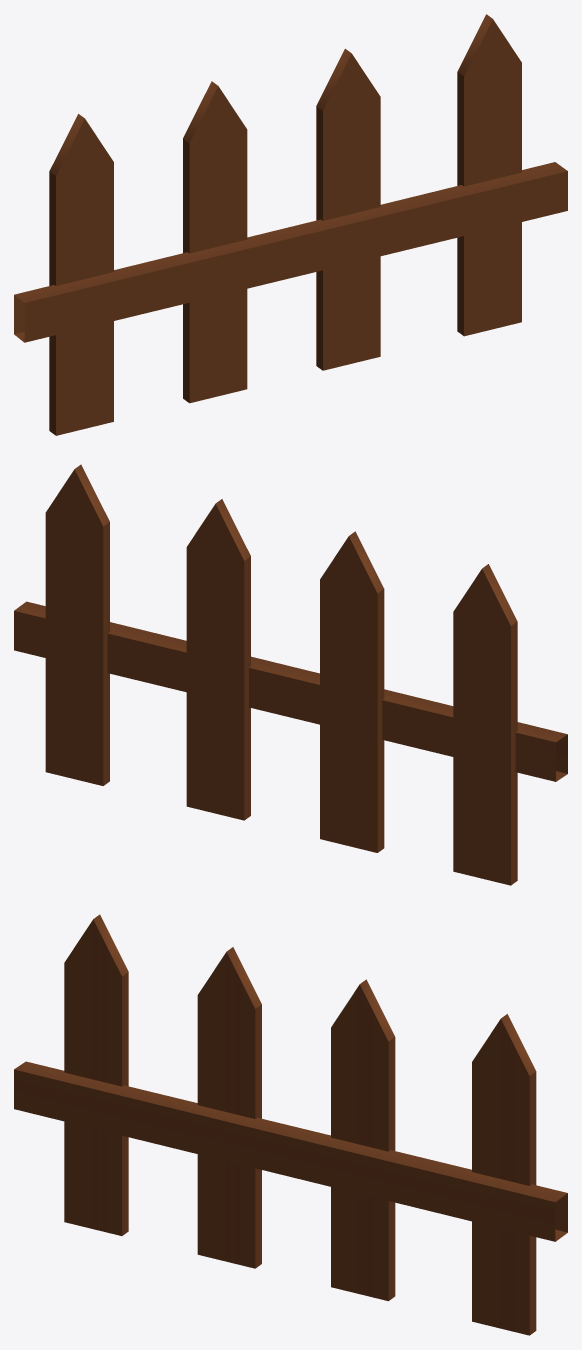
File: MSH_VallasMadera.fbx
3 renders of one model, top to bottom at view 1: azimuth 30°, elevation 25°; view 2: azimuth 150°, elevation 25°; view 3: azimuth 330°, elevation 25°, orthographic.
Visible parts, largest first — view 1: Box084; view 2: Box084; view 3: Box084.
Boxes of the visible parts, x1,y1,x2,y2 form: Box084: [14, 14, 567, 435]; Box084: [14, 464, 567, 885]; Box084: [14, 914, 567, 1335].
Size of the model in its own units: 53.03 by 28.98 by 2.84.
